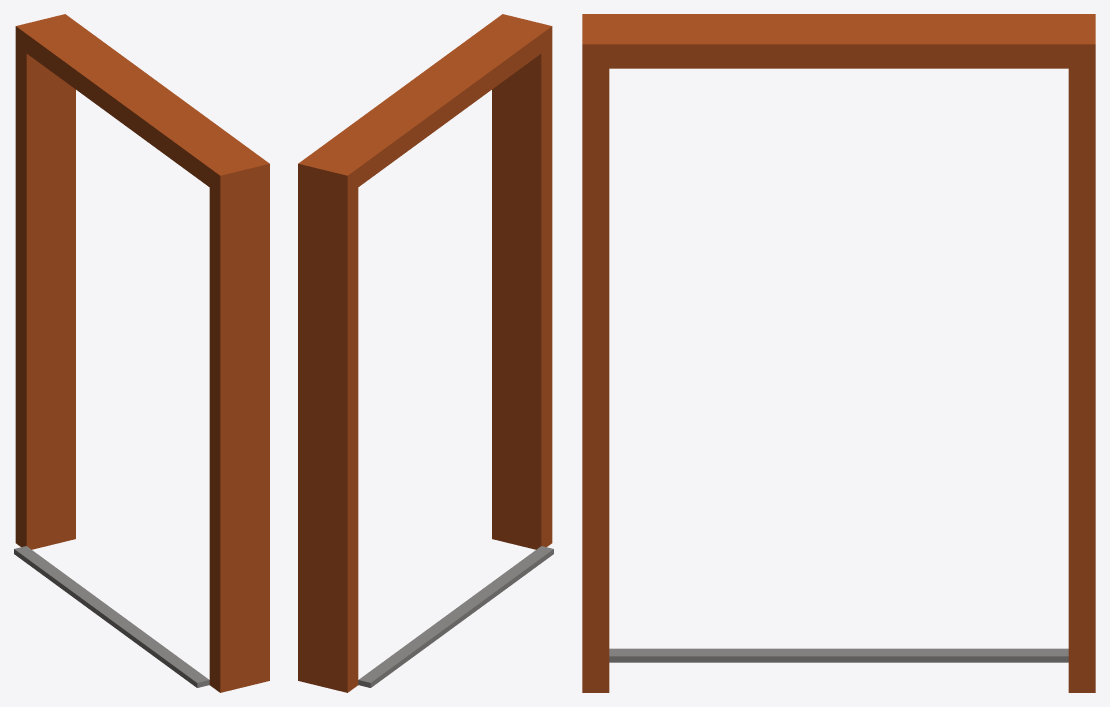
The model's file is B_k_frame_m.glb.
3 renders of one model, left to right at view 1: azimuth 30°, elevation 25°; view 2: azimuth 150°, elevation 25°; view 3: azimuth 270°, elevation 25°, orthographic. The views are drawn at different scales.
Parts seen in each view (by area): view 1: Cube.001, Cube, Cube.002, Cube.003; view 2: Cube, Cube.001, Cube.002, Cube.003; view 3: Cube.002, Cube, Cube.001, Cube.003.
Part boxes in pixels (bbox=[...]): Cube.001: bbox=[209, 183, 269, 692]; Cube: bbox=[15, 46, 75, 549]; Cube.002: bbox=[15, 14, 269, 194]; Cube.003: bbox=[14, 546, 209, 687]; Cube: bbox=[298, 183, 358, 692]; Cube.001: bbox=[492, 46, 552, 549]; Cube.002: bbox=[298, 14, 552, 194]; Cube.003: bbox=[358, 546, 553, 687]; Cube.002: bbox=[582, 14, 1095, 68]; Cube: bbox=[1068, 68, 1095, 692]; Cube.001: bbox=[582, 68, 609, 692]; Cube.003: bbox=[609, 648, 1068, 662].
Bounding box in the file's own units: 0.5 × 3.99 × 2.86.
